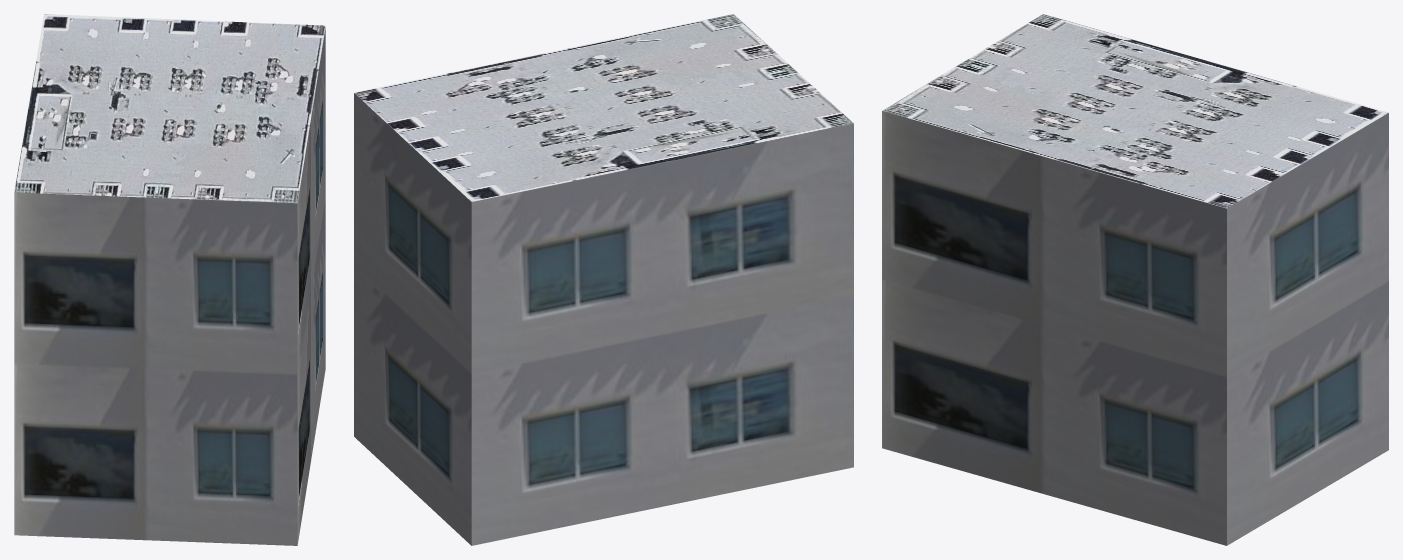
File: ResTex__4464.fbx
3 views of the same model, side by side, from view 1: azimuth 30°, elevation 25°; view 2: azimuth 150°, elevation 25°; view 3: azimuth 270°, elevation 25° (orthographic).
Parts seen in each view (by area): view 1: CityEngineMaterial_10_m, CityEngineMaterial_8_m; view 2: CityEngineMaterial_10_m, CityEngineMaterial_8_m; view 3: CityEngineMaterial_10_m, CityEngineMaterial_8_m.
Part boxes in pixels (<box>): CityEngineMaterial_10_m: <box>14,27,325,545</box>; CityEngineMaterial_8_m: <box>14,14,325,203</box>; CityEngineMaterial_10_m: <box>354,93,853,545</box>; CityEngineMaterial_8_m: <box>354,14,853,201</box>; CityEngineMaterial_10_m: <box>882,111,1388,545</box>; CityEngineMaterial_8_m: <box>882,14,1388,208</box>.
Size of the model in its own units: 7.42 by 6 by 8.16.
2 materials, 2 textured.
